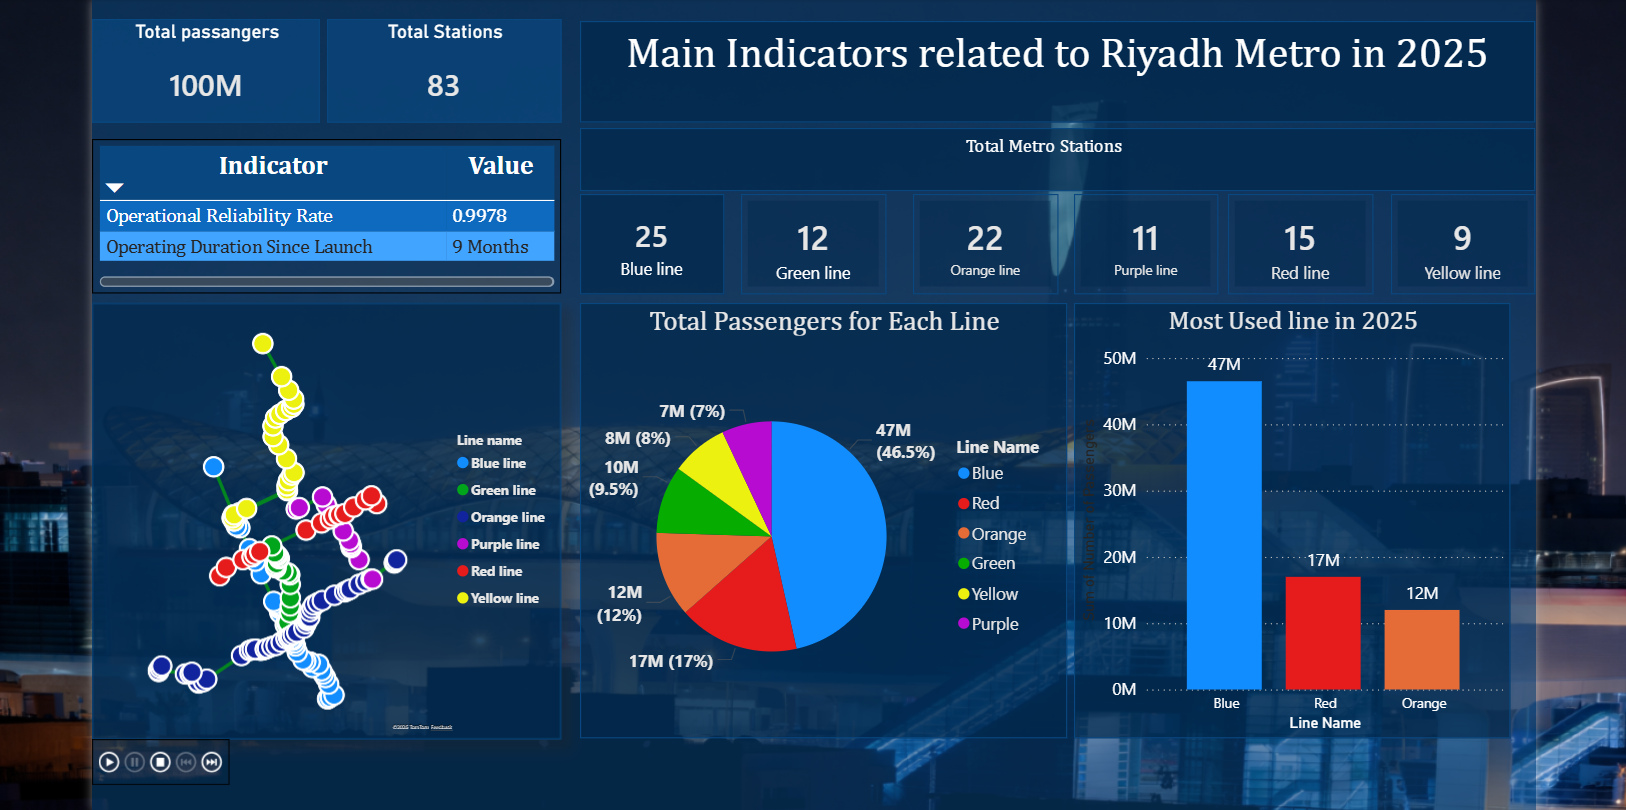

The dashboard page shown, as its layout file describes it:
{"tool":"powerbi","page":{"name":"Page 1","canvas":[1280,720],"ordinal":0},"visuals":[{"type":"azureMap","fields":{"Y":["Sheet1.Lat"],"X":["Sheet1.Long"],"Series":["Sheet1.Metro line name"]},"box":[0,269.6,416.4,386.9],"z":0},{"type":"PBI_CV_16948668_E17D_454B_8664_2F2C470EA8C1","fields":{"category":["Sheet1.Point Order"]},"box":[0,655.8,122.1,40.7],"z":1000},{"type":"cardVisual","fields":{"Data":["Feuil1 (2).Station name"]},"box":[432.7,172.9,127.7,88.7],"z":2000},{"type":"cardVisual","fields":{"Data":["Metro Line Passenger Statistics.Station name"]},"box":[575.5,172.9,128.6,88.7],"z":3000},{"type":"cardVisual","fields":{"Data":["Metro Line Passenger Statistics.Station name"]},"box":[728,172.9,128.6,88.7],"z":4000},{"type":"cardVisual","fields":{"Data":["Metro Line Passenger Statistics.Station name"]},"box":[1151.8,172.9,127.7,88.7],"z":5000},{"type":"cardVisual","fields":{"Data":["Metro Line Passenger Statistics.Station name"]},"box":[1007.3,172.9,128.6,88.7],"z":6000},{"type":"cardVisual","fields":{"Data":["Metro Line Passenger Statistics.Station name"]},"box":[870.7,172.9,127.7,88.7],"z":7000},{"type":"textbox","box":[432.7,114.4,846.8,55.9],"z":8000},{"type":"pieChart","title":"Total Passengers for Each Line","fields":{"Category":["Passenger Distribution by Transit Line.Line Name"],"Y":["Passenger Distribution by Transit Line.Number of Passengers"]},"box":[432.5,269.6,431.6,386],"z":9000},{"type":"tableEx","fields":{"Values":["Sheet1.Indicator","Sheet1.Value"]},"box":[0,124.5,416.4,137],"z":10000},{"type":"clusteredColumnChart","title":"Most Used line in 2025","fields":{"Category":["Passenger Distribution by Transit Line.Line Name"],"Y":["Passenger Distribution by Transit Line.Number of Passengers"]},"box":[870.7,269.6,386.6,385.7],"z":11000},{"type":"image","box":[1072.1,0,184.9,141.9],"z":12000},{"type":"cardVisual","title":"Total Stations","fields":{"Data":["Metro Line Passenger Statistics.Station name"]},"box":[208.7,17.9,207.8,92.2],"z":12002},{"type":"textbox","box":[432.7,19.5,846.8,89.6],"z":12003},{"type":"cardVisual","title":"Total passangers","fields":{"Data":["Sheet1.Total passangers"]},"box":[0,17.9,202.4,92.2],"z":12004}]}

Visuals, with their boxes on the page's 1280x720 design canvas (x1, y1, x2, y2). These are canvas units, not pixel positions in the 1626x810 screenshot, which may show the page scaled, cropped or inside an application window:
azureMap - Sheet1.Lat x Sheet1.Long: <box>0,270,416,656</box>
PBI_CV_16948668_E17D_454B_8664_2F2C470EA8C1 - Sheet1.Point Order: <box>0,656,122,696</box>
cardVisual - Feuil1 (2).Station name: <box>433,173,560,262</box>
cardVisual - Metro Line Passenger Statistics.Station name: <box>576,173,704,262</box>
cardVisual - Metro Line Passenger Statistics.Station name: <box>728,173,857,262</box>
cardVisual - Metro Line Passenger Statistics.Station name: <box>1152,173,1280,262</box>
cardVisual - Metro Line Passenger Statistics.Station name: <box>1007,173,1136,262</box>
cardVisual - Metro Line Passenger Statistics.Station name: <box>871,173,998,262</box>
textbox: <box>433,114,1280,170</box>
"Total Passengers for Each Line" pieChart: <box>432,270,864,656</box>
tableEx - Sheet1.Indicator x Sheet1.Value: <box>0,124,416,262</box>
"Most Used line in 2025" clusteredColumnChart: <box>871,270,1257,655</box>
image: <box>1072,0,1257,142</box>
"Total Stations" cardVisual: <box>209,18,416,110</box>
textbox: <box>433,20,1280,109</box>
"Total passangers" cardVisual: <box>0,18,202,110</box>
